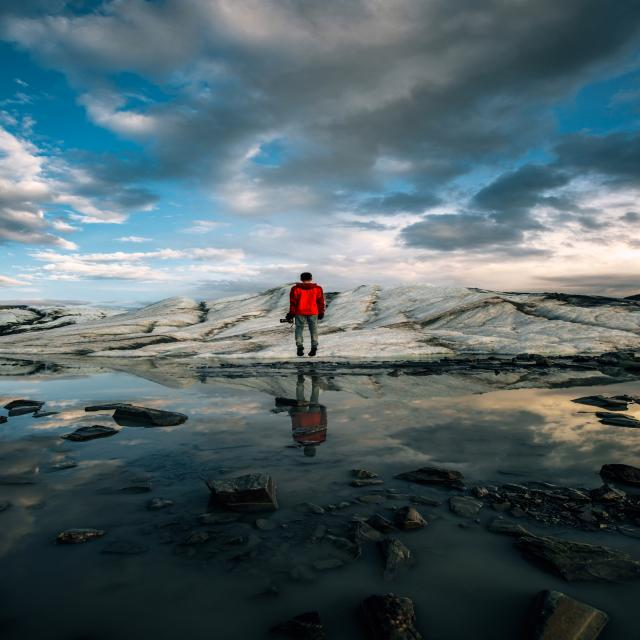adult: (277, 270, 334, 359)
